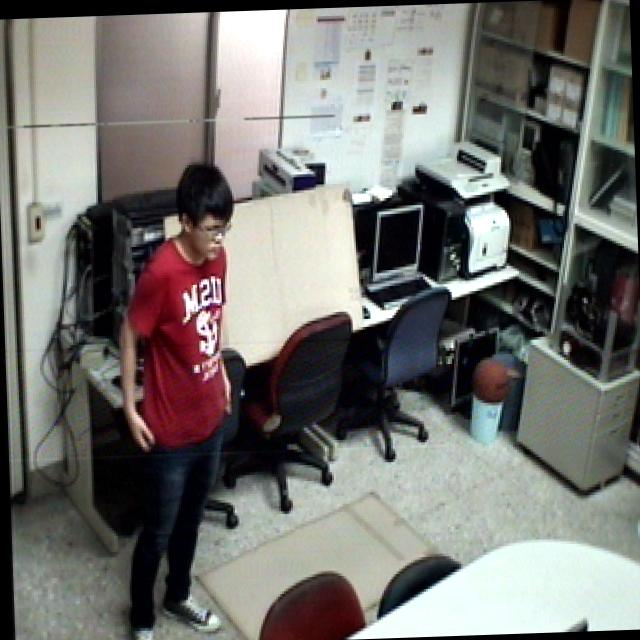stand: (93, 127, 271, 640)
